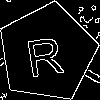R: (22, 27, 66, 78)
